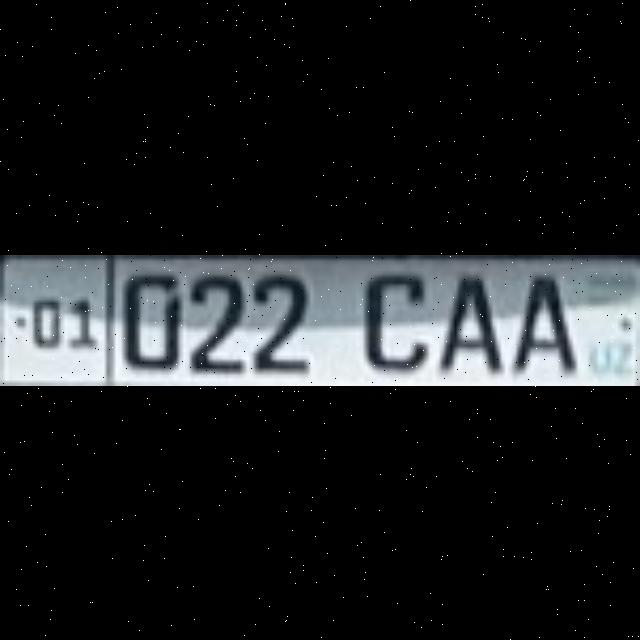0: (118, 266, 174, 364), (25, 292, 55, 344)
1: (63, 292, 93, 344)
2: (186, 272, 242, 368), (250, 272, 306, 368)
A: (504, 272, 572, 368), (436, 272, 496, 368)
C: (360, 272, 424, 368)
